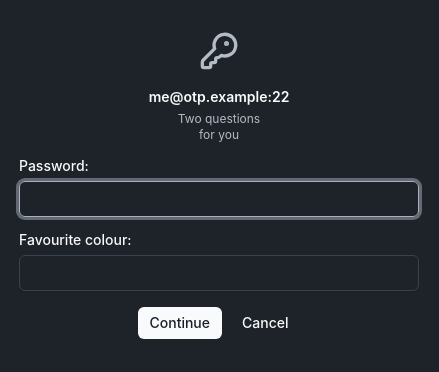
Test: AuthPrompt › shows a refusal and clears what was typed
This screenshot has width=439, height=372.
In the password field with test id "auth-prompt-input-0": (219, 199) [19,181,419,217], type "hunter2"
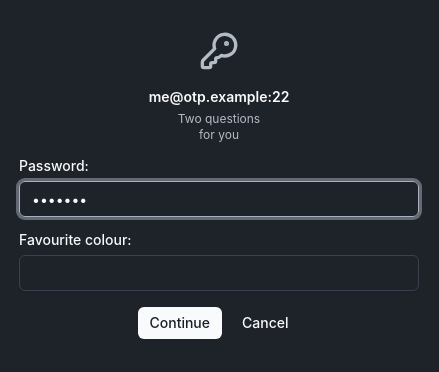
Click the button with test id "auth-prompt-submit": (180, 323) [138,307,222,339]
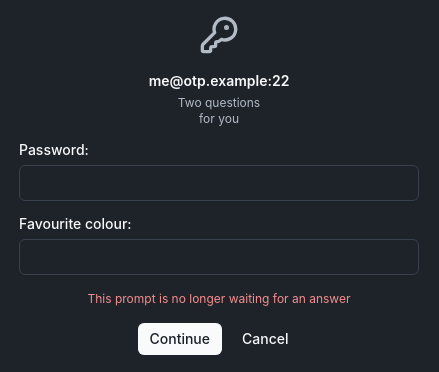
Expected: the message with test id "auth-prompt-error" reads "This prompt is no longer waiting for an answer", [88,291,350,306]
Expected: the password field with test id "auth-prompt-input-0" is empty, [19,165,419,201]
